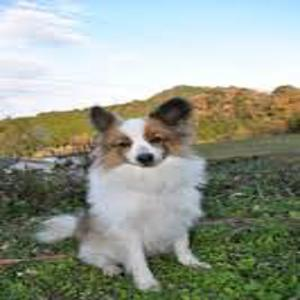yell: (35, 98, 211, 293)
